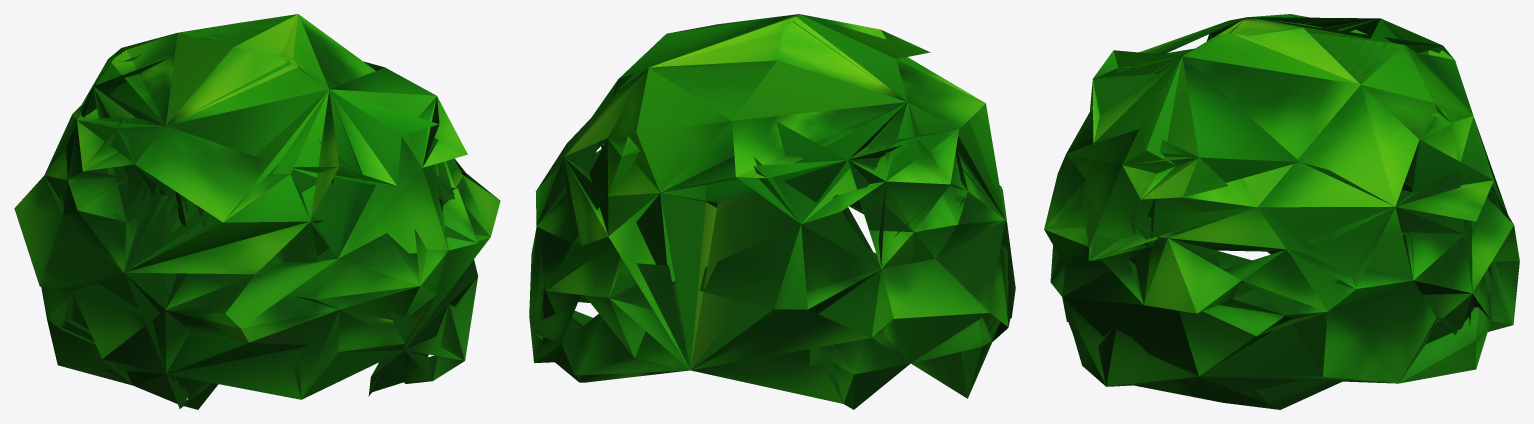
The model's file is bush.glb.
3 views of the same model, side by side, from view 1: azimuth 30°, elevation 25°; view 2: azimuth 150°, elevation 25°; view 3: azimuth 270°, elevation 25° (orthographic). The views are drawn at different scales.
Parts seen in each view (by area): view 1: geometry_0; view 2: geometry_0; view 3: geometry_0.
Part boxes in pixels (x1,y1,x2,y2): geometry_0: [14, 14, 500, 409]; geometry_0: [529, 14, 1015, 409]; geometry_0: [1044, 14, 1519, 409].
Size of the model in its own units: 0.9294 by 0.6133 by 0.8837.
1 material, 1 textured.
